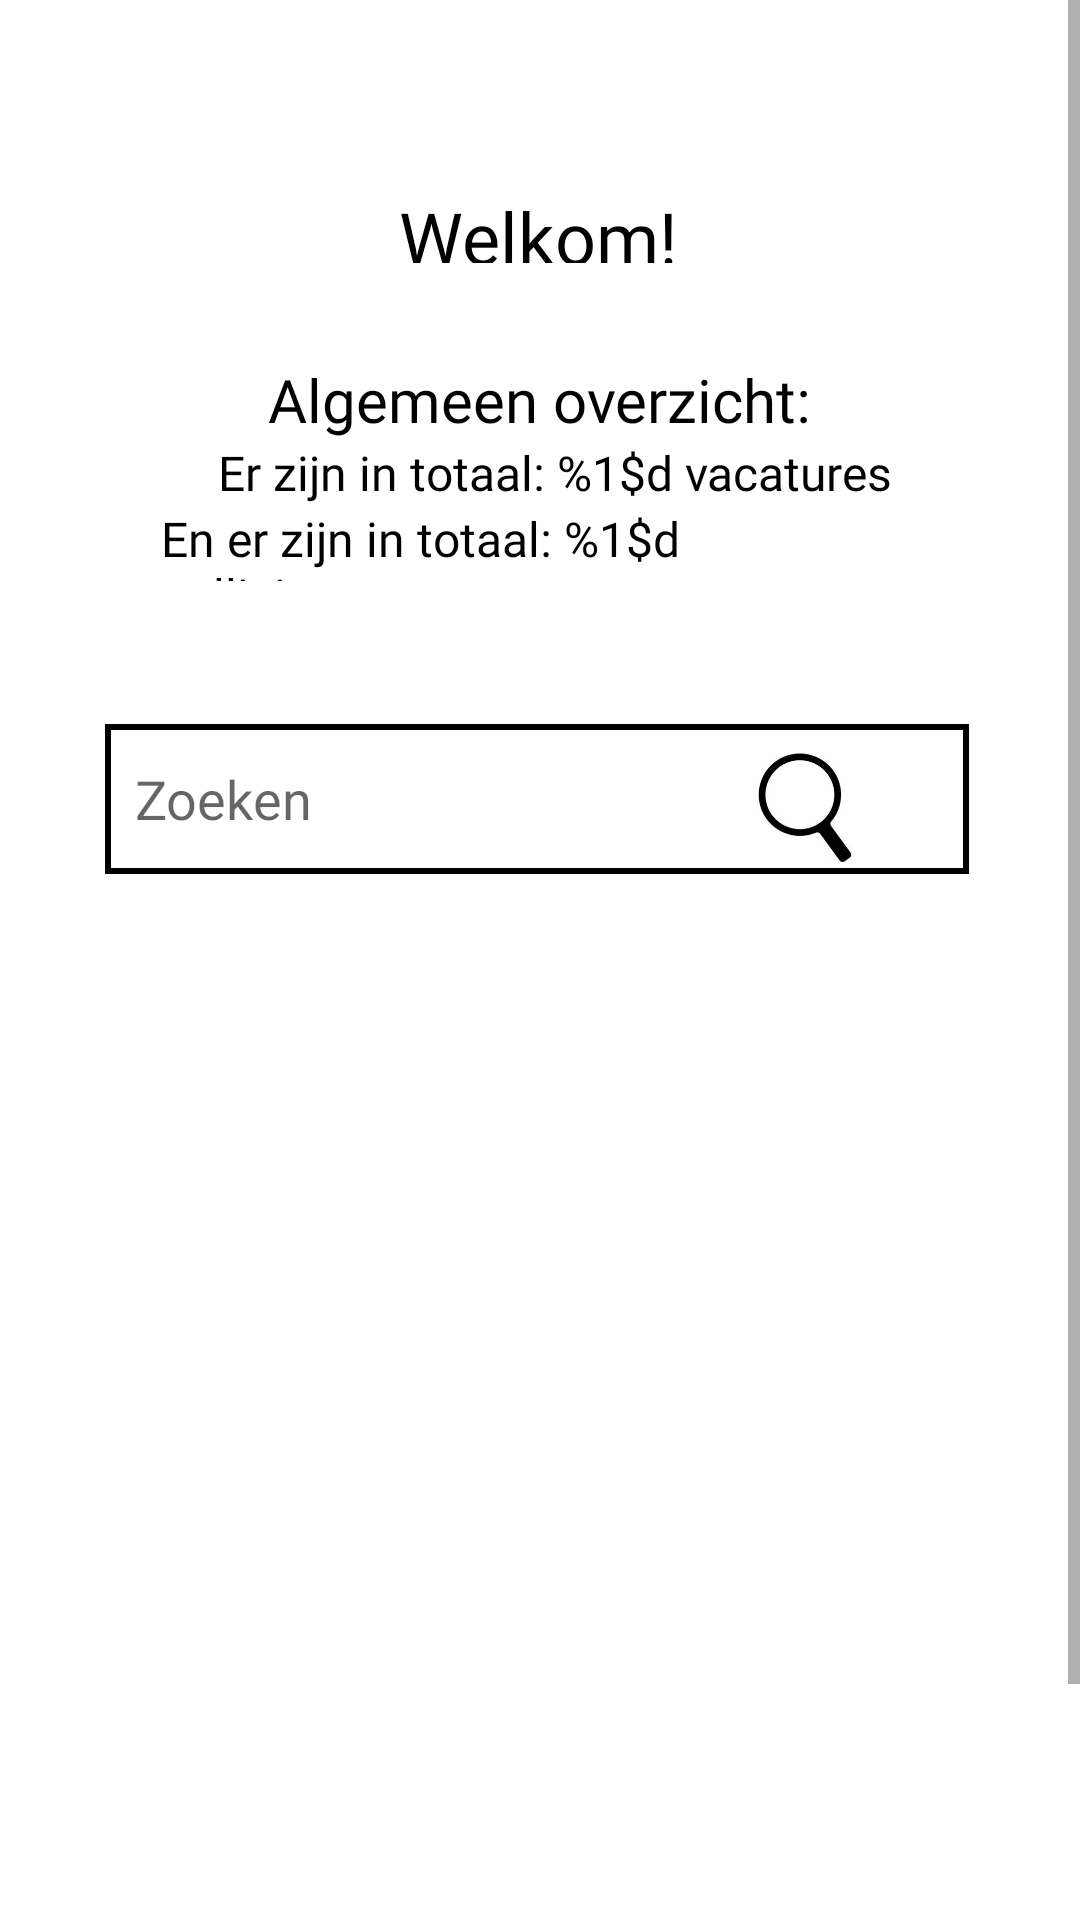

Named icons in this screenshot (1080*1920) and their centers, (x,y):
search: (805,807)
